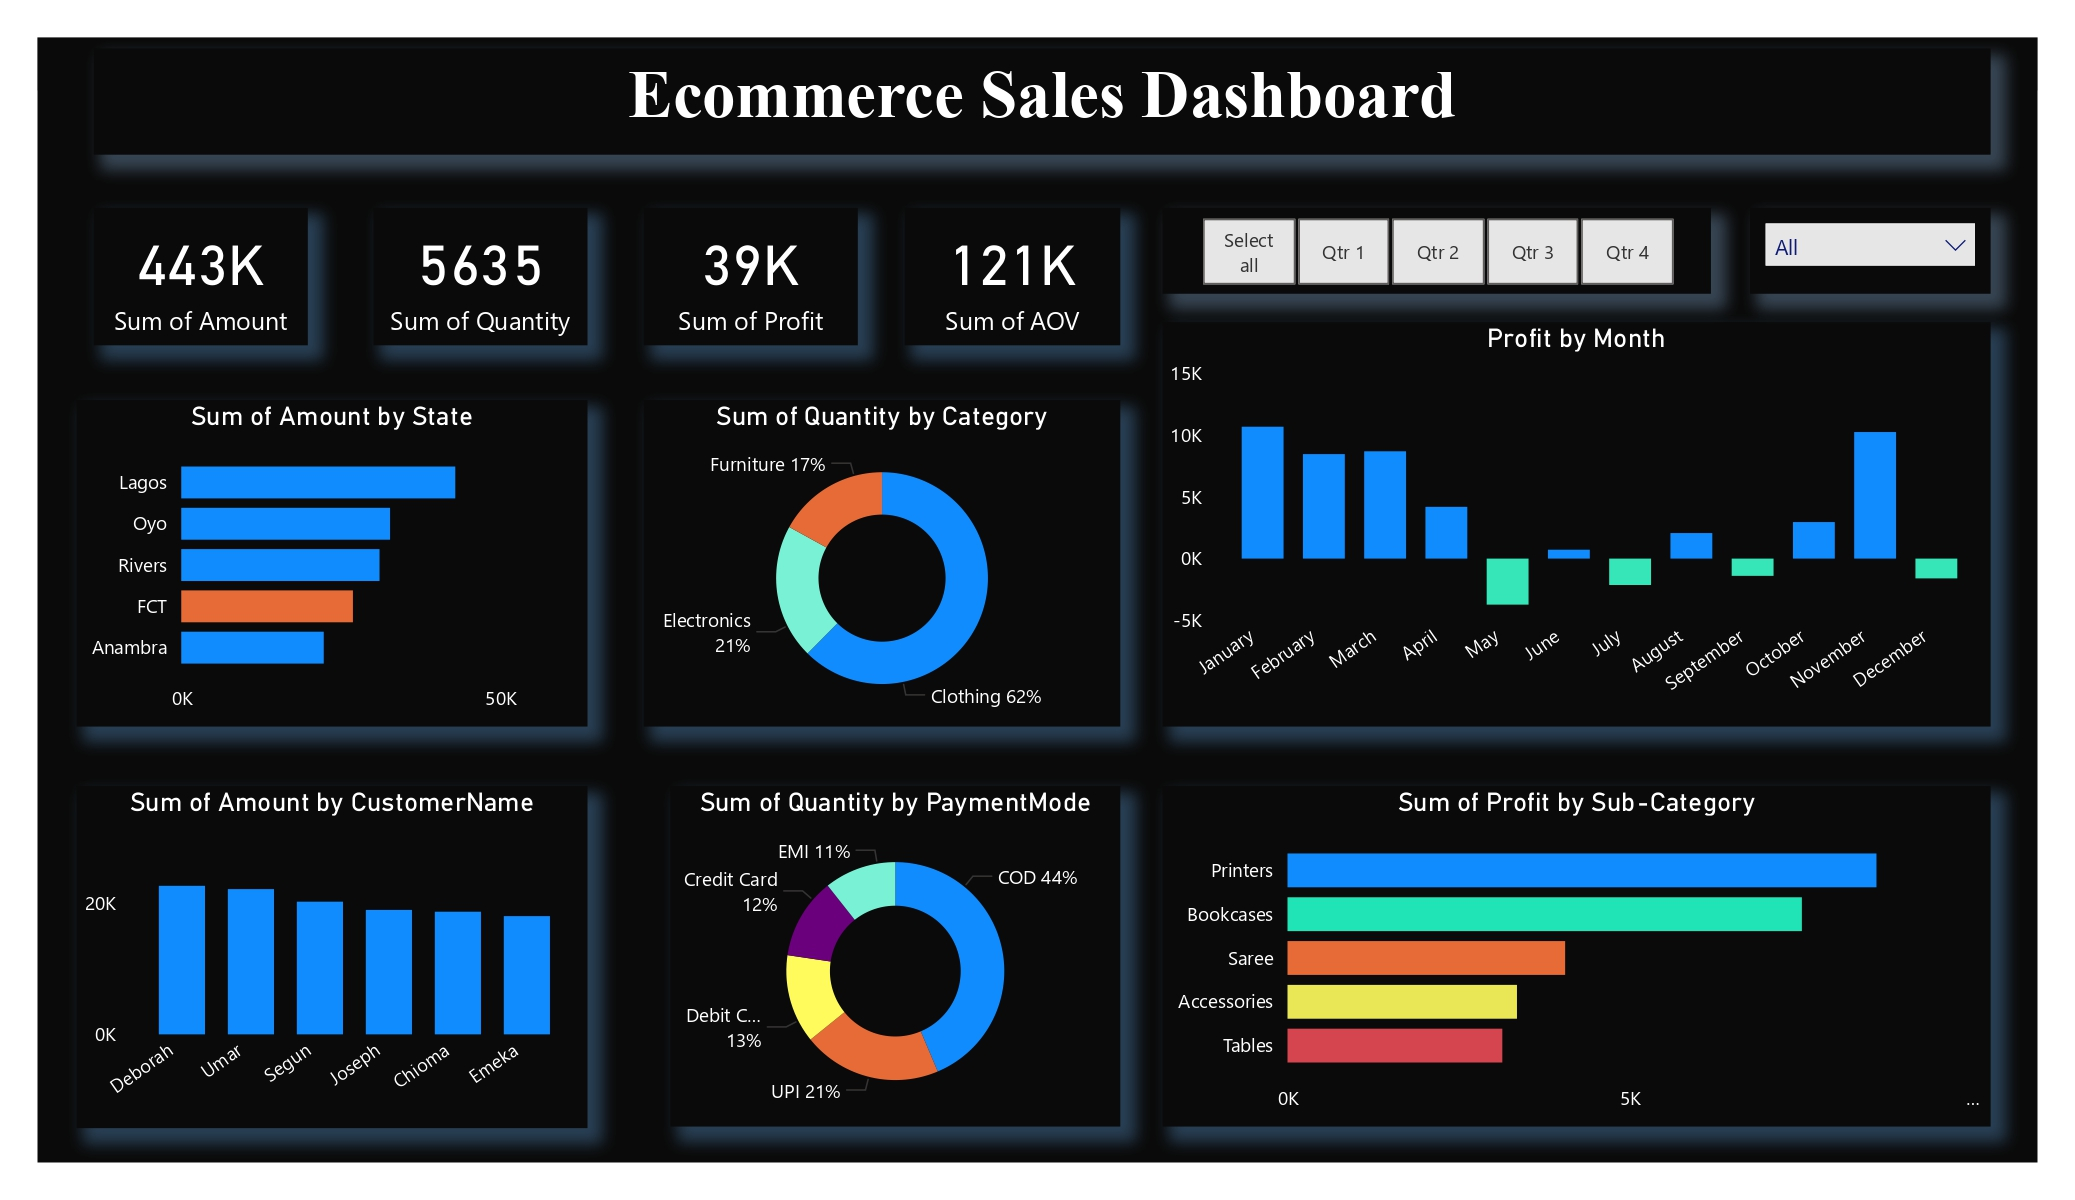

The page's visual inventory and layout, read from the dashboard file:
{"tool":"powerbi","page":{"name":"Page 1","canvas":[1280,720],"ordinal":0},"visuals":[{"type":"textbox","box":[36,6.8,1213.9,68.1],"z":0},{"type":"columnChart","title":"Profit by Month","fields":{"Category":["Orders.Order Date.Variation.Date Hierarchy.Month"],"Y":["Sum(Details.Profit)"]},"box":[719.8,181.9,530.1,258.7],"z":1000},{"type":"barChart","fields":{"Category":["Details.Sub-Category"],"Y":["Sum(Details.Profit)"]},"box":[719.8,478.5,530.1,218.8],"z":2000},{"type":"donutChart","fields":{"Category":["Details.Category"],"Y":["Sum(Details.Quantity)"]},"box":[388.1,232.5,304.4,208.1],"z":3000},{"type":"donutChart","fields":{"Category":["Details.PaymentMode"],"Y":["Sum(Details.Quantity)"]},"box":[404.6,478.5,287.9,218.8],"z":4000},{"type":"card","fields":{"Values":["Sum(Details.Amount)"]},"box":[36,108.9,137,88.5],"z":5000},{"type":"card","fields":{"Values":["Sum(Details.Quantity)"]},"box":[215,108.9,137.1,88.5],"z":6000},{"type":"card","fields":{"Values":["Sum(Details.Profit)"]},"box":[388.1,108.9,137.1,88.5],"z":7000},{"type":"card","fields":{"Values":["Sum(Details.AOV)"]},"box":[555.4,108.9,137.1,88.5],"z":8000},{"type":"barChart","fields":{"Category":["Orders.State"],"Y":["Sum(Details.Amount)"]},"box":[25.3,232.5,326.8,208.1],"z":9000},{"type":"columnChart","fields":{"Y":["Sum(Details.Amount)"],"Category":["Orders.CustomerName"]},"box":[25,479,327,219],"z":10000},{"type":"slicer","fields":{"Values":["Orders.Order Date.Variation.Date Hierarchy.Quarter"]},"box":[719.8,108.9,351.1,55.4],"z":11000},{"type":"slicer","fields":{"Values":["Orders.State"]},"box":[1096.2,108.9,153.7,55.4],"z":12000},{"type":"textbox","box":[1.4,7.2,122.4,53.3],"z":12001}]}

Visuals, with their boxes on the page's 1280x720 design canvas (x1, y1, x2, y2). These are canvas units, not pixel positions in the 2075x1200 screenshot, which may show the page scaled, cropped or inside an application window:
textbox: detection(36, 7, 1250, 75)
"Profit by Month" columnChart: detection(720, 182, 1250, 441)
barChart - Details.Sub-Category x Sum(Details.Profit): detection(720, 478, 1250, 697)
donutChart - Details.Category x Sum(Details.Quantity): detection(388, 232, 692, 441)
donutChart - Details.PaymentMode x Sum(Details.Quantity): detection(405, 478, 692, 697)
card - Sum(Details.Amount): detection(36, 109, 173, 197)
card - Sum(Details.Quantity): detection(215, 109, 352, 197)
card - Sum(Details.Profit): detection(388, 109, 525, 197)
card - Sum(Details.AOV): detection(555, 109, 692, 197)
barChart - Orders.State x Sum(Details.Amount): detection(25, 232, 352, 441)
columnChart - Sum(Details.Amount) x Orders.CustomerName: detection(25, 479, 352, 698)
slicer - Orders.Order Date.Variation.Date Hierarchy.Quarter: detection(720, 109, 1071, 164)
slicer - Orders.State: detection(1096, 109, 1250, 164)
textbox: detection(1, 7, 124, 60)
